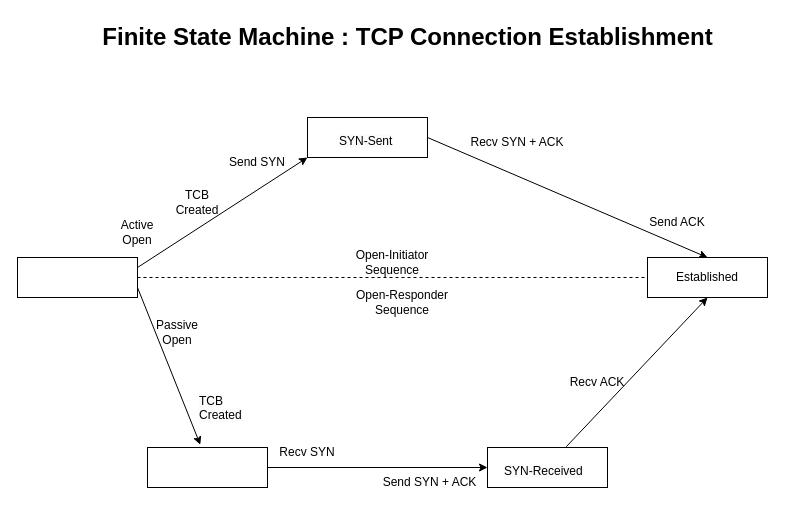
Some shapes in this 785 by 514 pixel diagram are drawn without their labels. Here are the shapes that lost their labels. From the top down, the centre of each, then its label:
(x=77, y=277): Closed
(x=207, y=467): Listen
